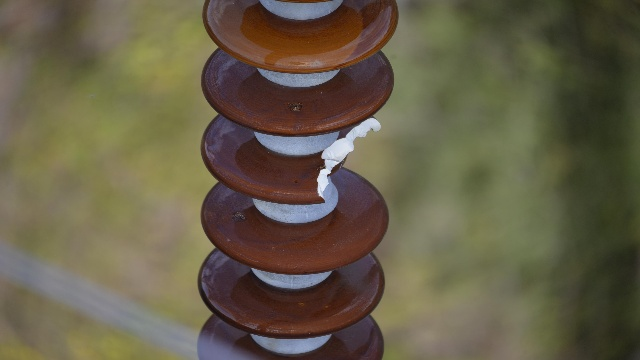broken_local: (315, 116, 384, 204)
insulator_unspecified: (196, 0, 399, 359)
